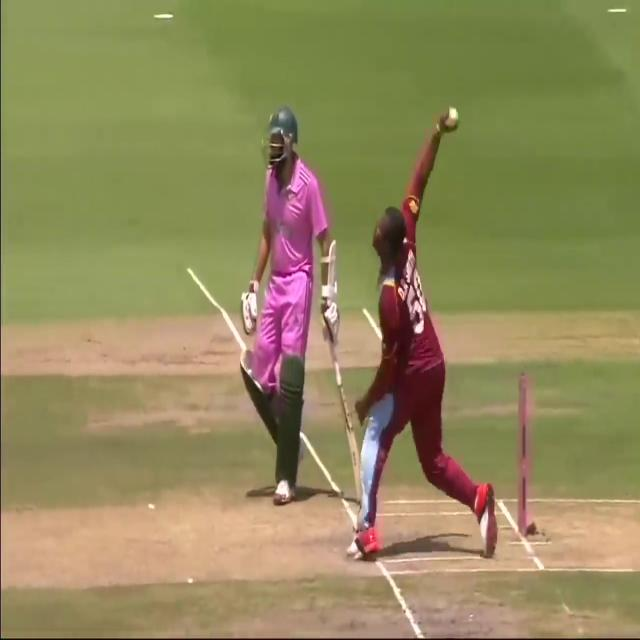Ball: (239, 108, 340, 512)
Fielder: (354, 102, 450, 550)
